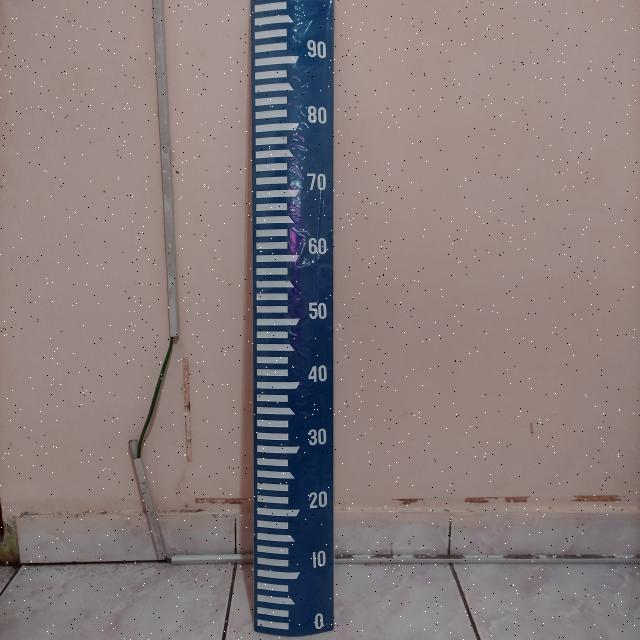10: (308, 548, 328, 568)
20: (307, 488, 330, 514)
30: (307, 425, 329, 449)
40: (308, 362, 330, 387)
50: (304, 298, 328, 326)
60: (306, 235, 328, 258)
70: (306, 170, 326, 194)
80: (307, 104, 328, 125)
90: (304, 39, 328, 60)
staff: (251, 2, 333, 633)
